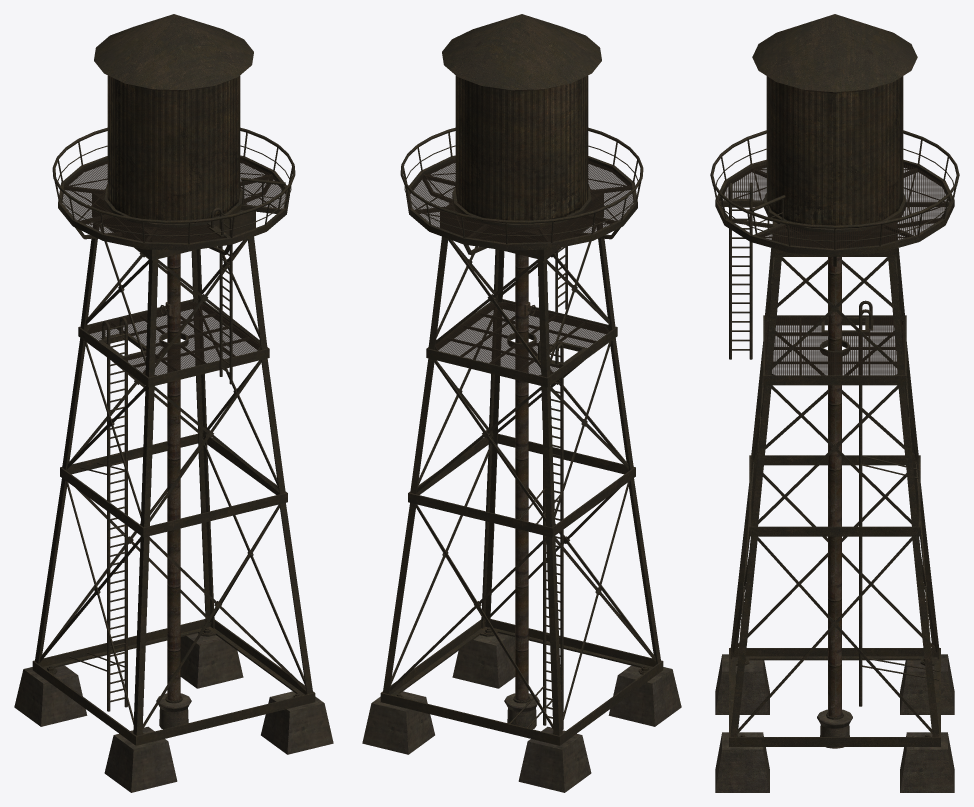
The model's file is water_tower_hm_1.glb.
The picture shows the model from 3 angles, left to right: view 1: azimuth 30°, elevation 25°; view 2: azimuth 150°, elevation 25°; view 3: azimuth 270°, elevation 25°; orthographic projection. The views are drawn at different scales.
Parts seen in each view (by area): view 1: water_tower_hm_1; view 2: water_tower_hm_1; view 3: water_tower_hm_1.
Boxes of the visible parts, x1,y1,x2,y2 form: water_tower_hm_1: (14,14,333,792); water_tower_hm_1: (362,14,681,792); water_tower_hm_1: (710,14,959,792).
Bounding box in the file's own units: 7.29 × 23.5 × 7.29.
5 materials, 5 textured.
